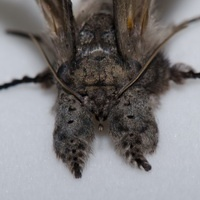insect: (80, 80, 199, 198), (0, 84, 70, 182), (132, 1, 183, 62), (112, 86, 148, 135), (165, 21, 199, 70), (0, 1, 47, 35), (25, 132, 42, 187), (3, 128, 20, 180)
